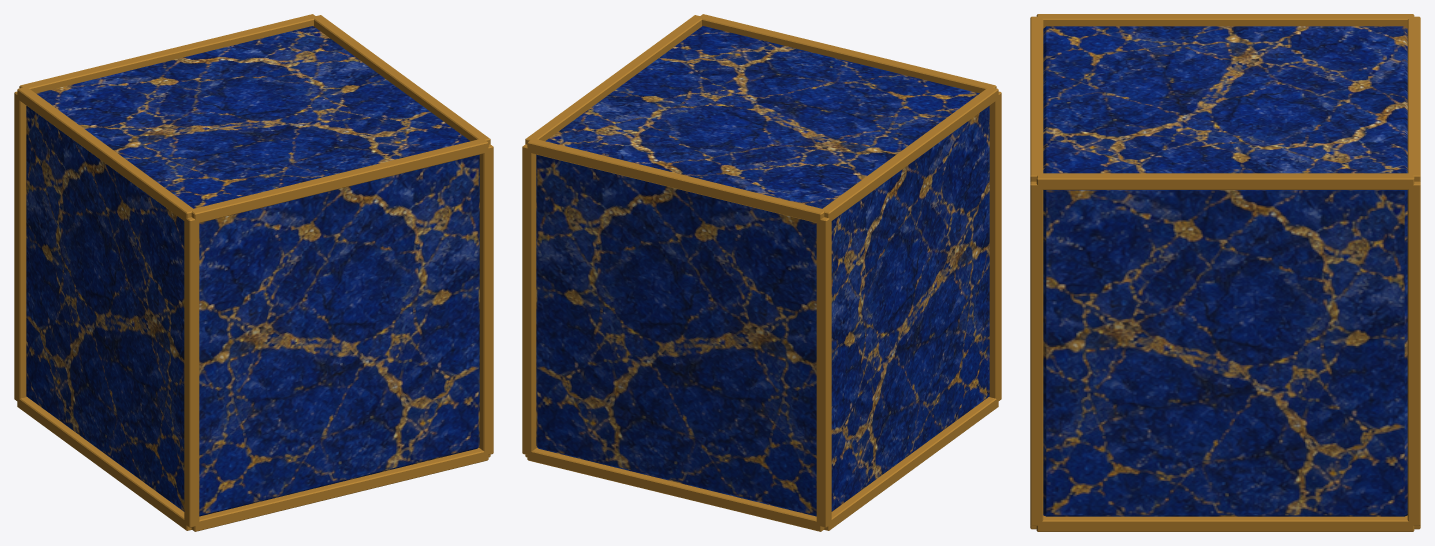
The model's file is item_cube.glb.
The picture shows the model from 3 angles, left to right: view 1: azimuth 30°, elevation 25°; view 2: azimuth 150°, elevation 25°; view 3: azimuth 270°, elevation 25°; orthographic projection. The views are drawn at different scales.
Visible parts, largest first — view 1: props_cube; view 2: props_cube; view 3: props_cube.
Boxes of the visible parts, x1=… form: props_cube: x1=14, y1=14, x2=493, y2=531; props_cube: x1=522, y1=14, x2=1001, y2=531; props_cube: x1=1030, y1=14, x2=1420, y2=531.
Size of the model in its own units: 0.745 by 0.745 by 0.745.
Materials: 2 (1 with a texture image).
